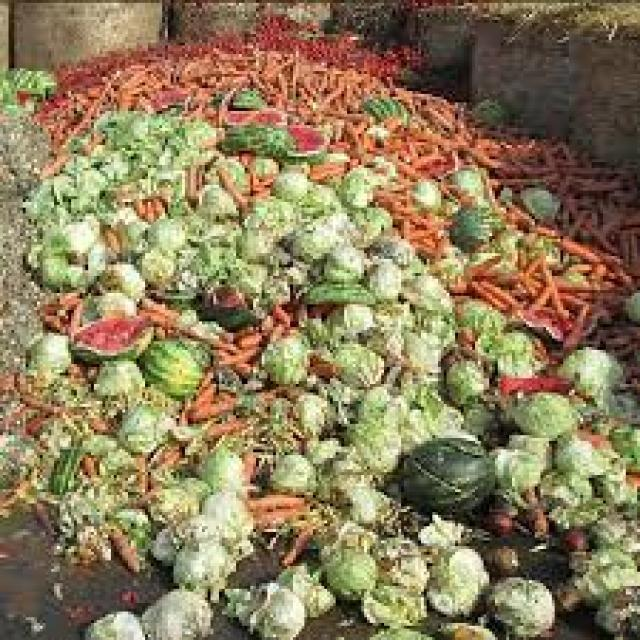Wet: (1, 36, 640, 639), (382, 422, 540, 520)
